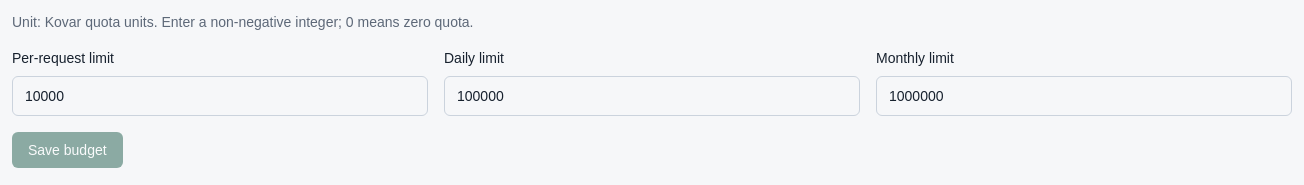
Test: Agent management UI › saves budgets successfully
The width and height of the screenshot is (1304, 185).
Replace the text in the field labelled "Daily limit" with "9223372036854775807" at (652, 96), box 444,76 -> 860,116
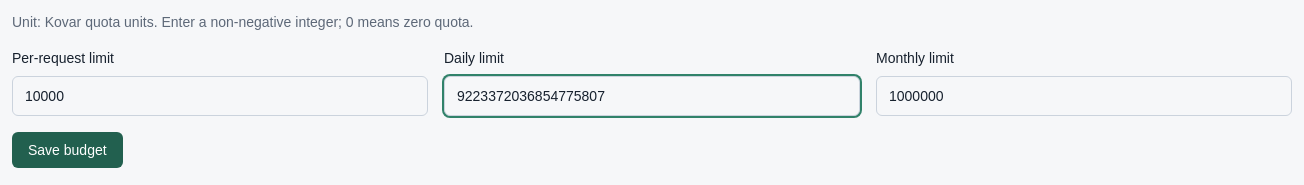
Click the button "Save budget" at (67, 150), box 12,132 -> 123,168
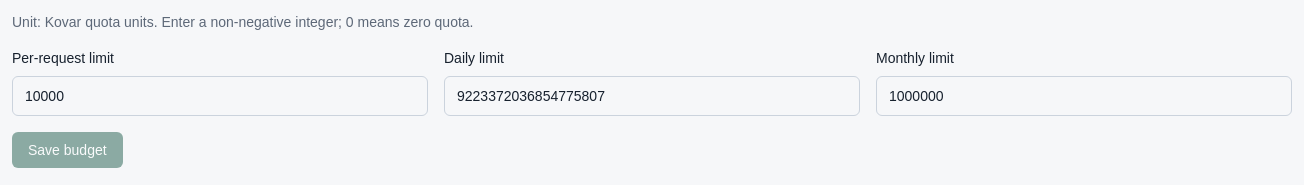
Now the button "Save budget" is disabled, box 12,132 -> 123,168
